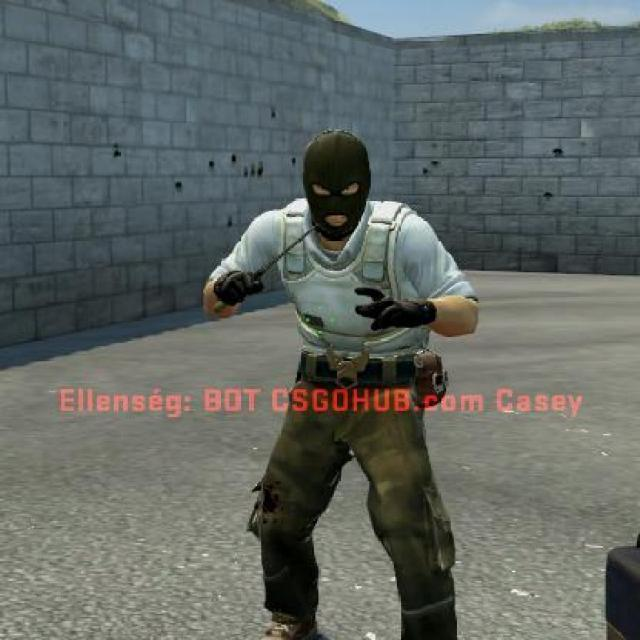Dead: (296, 130, 378, 242)
T-Body: (218, 124, 476, 638)
